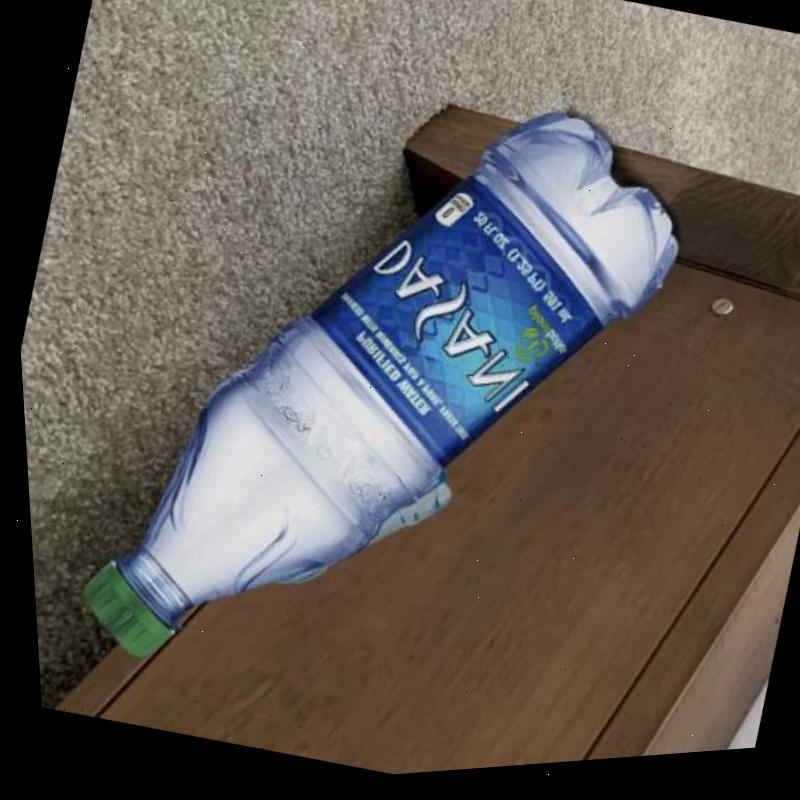botella: (35, 11, 729, 777), (262, 447, 456, 629)
